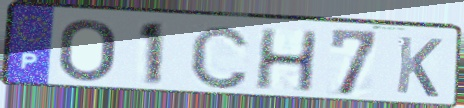1: (136, 20, 169, 87)
7: (328, 26, 379, 99)
C: (187, 23, 252, 92)
H: (251, 27, 321, 94)
K: (393, 33, 445, 100)
O: (56, 17, 119, 84)
